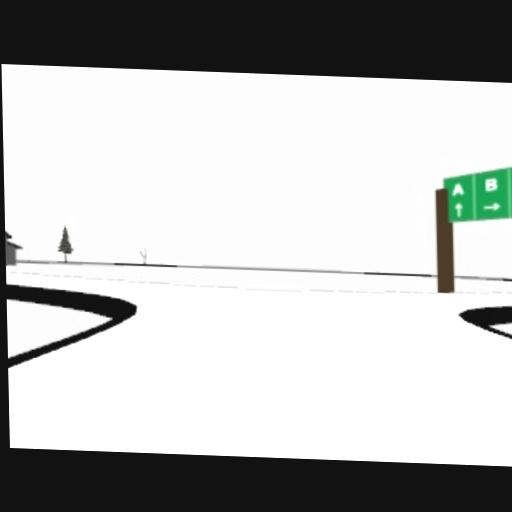A: (453, 183, 465, 197)
B: (485, 178, 497, 190)
Right: (482, 204, 501, 210)
Straight: (455, 202, 463, 218)
